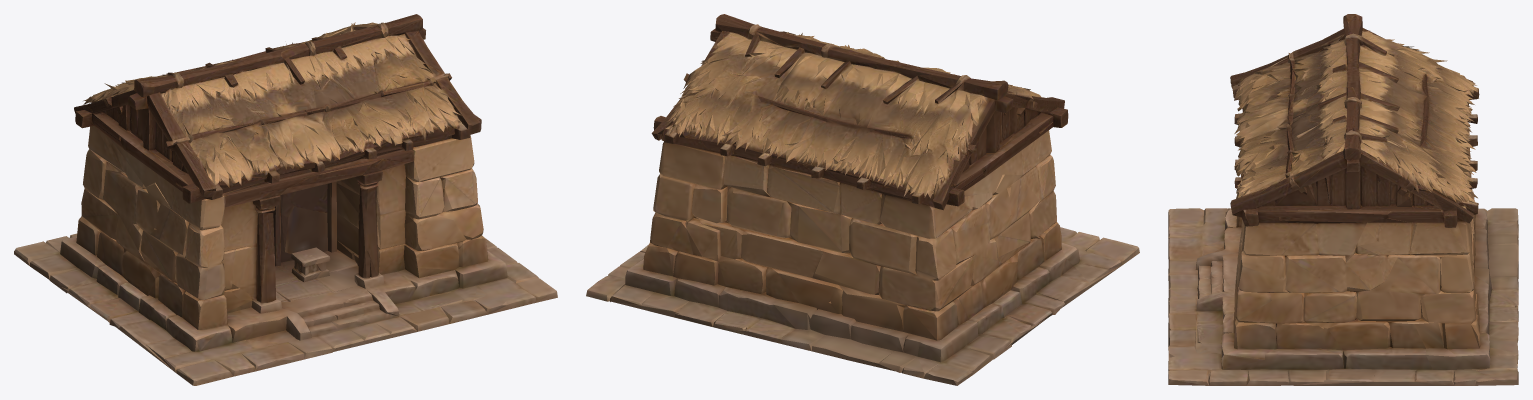
Rendered from temple.glb.
3 views of the same model, side by side, from view 1: azimuth 30°, elevation 25°; view 2: azimuth 150°, elevation 25°; view 3: azimuth 270°, elevation 25° (orthographic). The views are drawn at different scales.
Bounding box in the file's own units: 1.9 × 1.13 × 1.63.
1 material, 1 textured.
